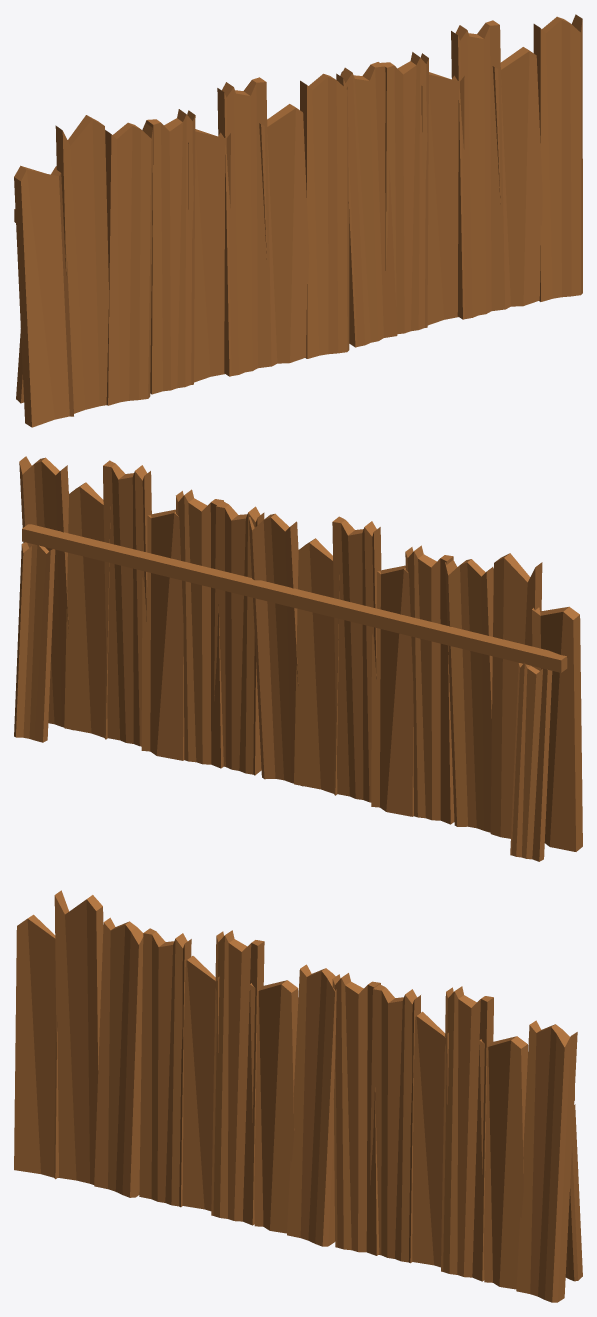
File: BuildableWoodWall.fbx
3 views of the same model, one above another, from view 1: azimuth 30°, elevation 25°; view 2: azimuth 150°, elevation 25°; view 3: azimuth 330°, elevation 25° (orthographic).
Parts seen in each view (by area): view 1: Cube.018; view 2: Cube.018; view 3: Cube.018.
Part boxes in pixels (<box>): Cube.018: <box>14,14,582,427</box>; Cube.018: <box>14,456,582,861</box>; Cube.018: <box>14,890,582,1302</box>.
Size of the model in its own units: 257 by 126 by 26.47.
